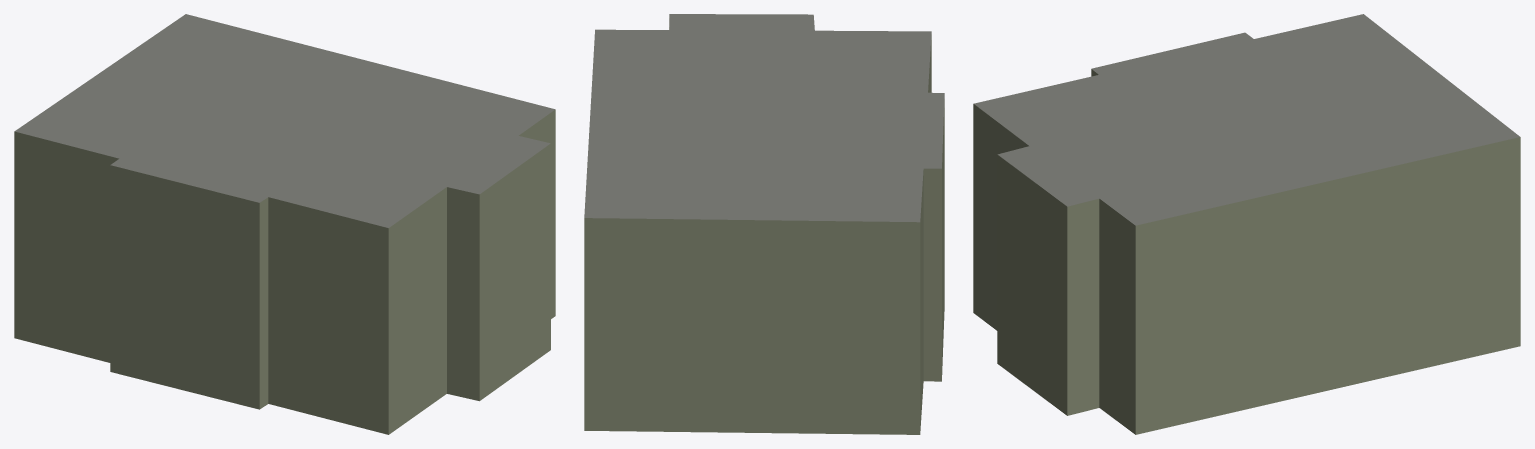
Rendered from nyc-1090520-0.glb.
3 views of the same model, side by side, from view 1: azimuth 30°, elevation 25°; view 2: azimuth 150°, elevation 25°; view 3: azimuth 270°, elevation 25° (orthographic). The views are drawn at different scales.
Parts seen in each view (by area): view 1: nyc-1090520-0; view 2: nyc-1090520-0; view 3: nyc-1090520-0.
Part boxes in pixels (bbox=[...]): nyc-1090520-0: bbox=[14, 14, 555, 434]; nyc-1090520-0: bbox=[584, 14, 944, 434]; nyc-1090520-0: bbox=[973, 14, 1520, 434].
Bounding box in the file's own units: 8.59 × 3.96 × 9.38.
